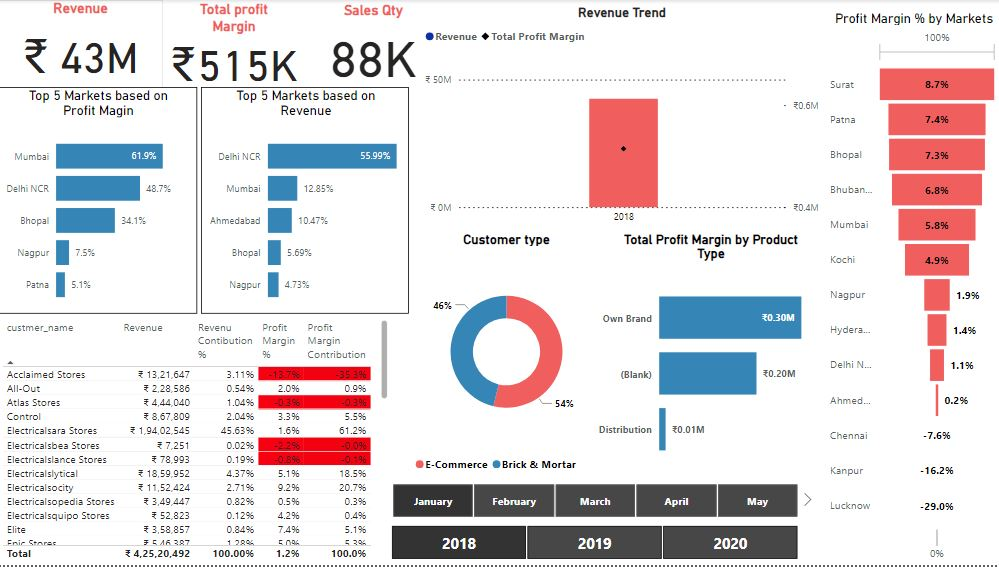

This screenshot's page, from the dashboard's own definition file:
{"tool":"powerbi","page":{"name":"Report","canvas":[1280,720],"ordinal":0},"visuals":[{"type":"card","title":"Revenue","fields":{"Values":["BaseMesure.Revenue"]},"box":[0,0,210.8,112.2],"z":0},{"type":"card","title":"Sales Qty","fields":{"Values":["BaseMesure.Sales Qty"]},"box":[391.4,2.5,174.7,107.1],"z":1000},{"type":"slicer","fields":{"Values":["sales date.year"]},"box":[478.5,665.3,565.1,52.4],"z":2000},{"type":"slicer","fields":{"Values":["sales date.date.Variation.Date Hierarchy.Month"]},"box":[478.5,610.6,565.1,54.7],"z":3000},{"type":"lineClusteredColumnComboChart","title":"Revenue Trend","fields":{"Y":["BaseMesure.Revenue"],"Y2":["BaseMesure.Total Profit Margin"],"Category":["sales date.cy_date.Variation.Date Hierarchy.Year","sales date.cy_date.Variation.Date Hierarchy.Month"]},"box":[539.3,5.1,512.5,289.4],"z":4000},{"type":"card","title":"Total profit Margin","fields":{"Values":["BaseMesure.Total Profit Margin"]},"box":[210.4,1.3,181,107.1],"z":5000},{"type":"funnel","title":"Profit Margin % by Markets","fields":{"Category":["sales markets.markets_name","sales markets.zone"],"Y":["BaseMesure.Profit Margin %"]},"box":[1056.1,12.5,224.4,707.5],"z":6000},{"type":"barChart","title":"Top 5 Markets based on Profit Magin","fields":{"Category":["sales markets.markets_name","sales markets.zone"],"Y":["BaseMesure.Profit Margin Contribution"]},"box":[0,110.9,253.7,289.4],"z":7000},{"type":"barChart","title":"Top 5 Markets based on Revenue","fields":{"Category":["sales markets.markets_name","sales markets.zone"],"Y":["BaseMesure.Revenu Contibution %"]},"box":[258.8,110.9,265.2,289.4],"z":8000},{"type":"tableEx","fields":{"Values":["sales customers.custmer_name","BaseMesure.Revenue","BaseMesure.Revenu Contibution %","BaseMesure.Profit Margin %","BaseMesure.Profit Margin Contribution"]},"box":[0,402.9,502.3,314.9],"z":9000},{"type":"donutChart","title":"Customer type","fields":{"Category":["sales customers.customer_type"],"Y":["BaseMesure.Profit Margin Contribution"]},"box":[526.5,294.5,243.5,316.2],"z":10000},{"type":"clusteredBarChart","title":"Total Profit Margin by Product Type","fields":{"Category":["sales products.product_type"],"Y":["BaseMesure.Total Profit Margin"]},"box":[759.8,294.5,298.3,316.2],"z":11000}]}

Visuals, with their boxes in screenshot pixels (x1, y1, x2, y2), scaled from the page's 1280x720 canvas onto the 999x567 screenshot:
"Revenue" card: (0,0,165,88)
"Sales Qty" card: (305,2,442,86)
slicer - sales date.year: (373,524,814,565)
slicer - sales date.date.Variation.Date Hierarchy.Month: (373,481,814,524)
"Revenue Trend" lineClusteredColumnComboChart: (421,4,821,232)
"Total profit Margin" card: (164,1,305,85)
"Profit Margin % by Markets" funnel: (824,10,998,566)
"Top 5 Markets based on Profit Magin" barChart: (0,87,198,315)
"Top 5 Markets based on Revenue" barChart: (202,87,409,315)
tableEx - sales customers.custmer_name x BaseMesure.Revenue: (0,317,392,565)
"Customer type" donutChart: (411,232,601,481)
"Total Profit Margin by Product Type" clusteredBarChart: (593,232,826,481)
